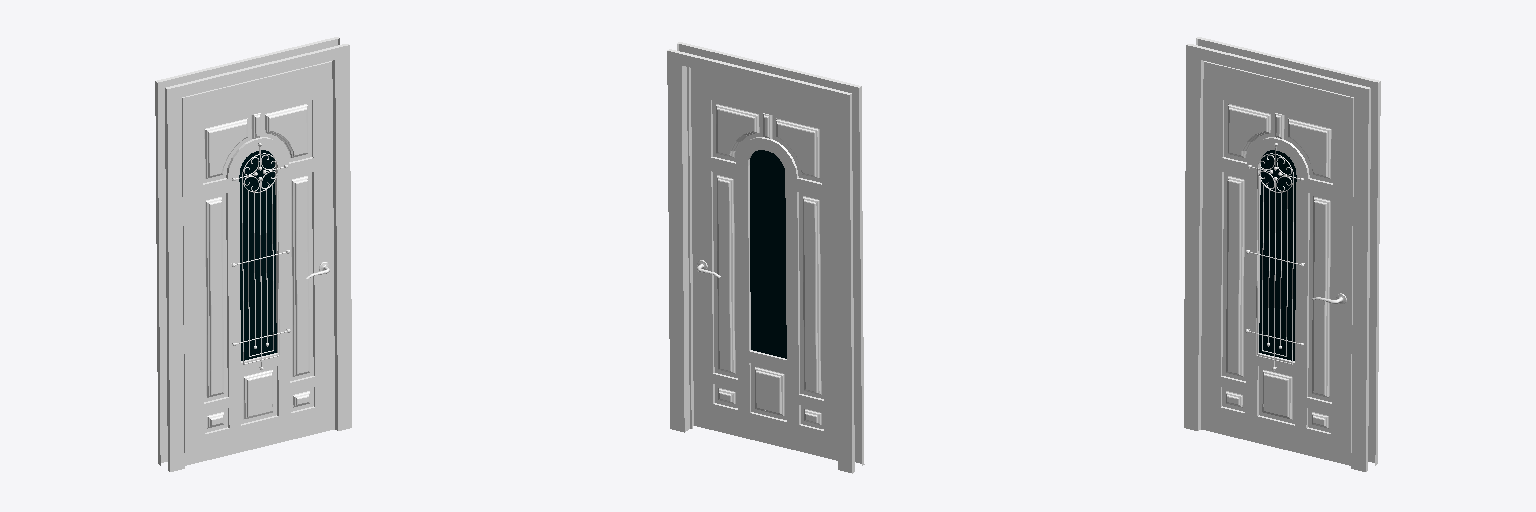
File: door.obj
The picture shows the model from 3 angles: view 1: azimuth 30°, elevation 25°; view 2: azimuth 150°, elevation 25°; view 3: azimuth 330°, elevation 25°; orthographic projection.
Parts seen in each view (by area): view 1: Door_Standart; view 2: Door_Standart; view 3: Door_Standart.
Boxes of the visible parts, <box> form: Door_Standart: <box>155,37,351,471</box>; Door_Standart: <box>667,42,864,473</box>; Door_Standart: <box>1184,37,1380,471</box>.
Bounding box in the file's own units: 101 × 201 × 18.42.